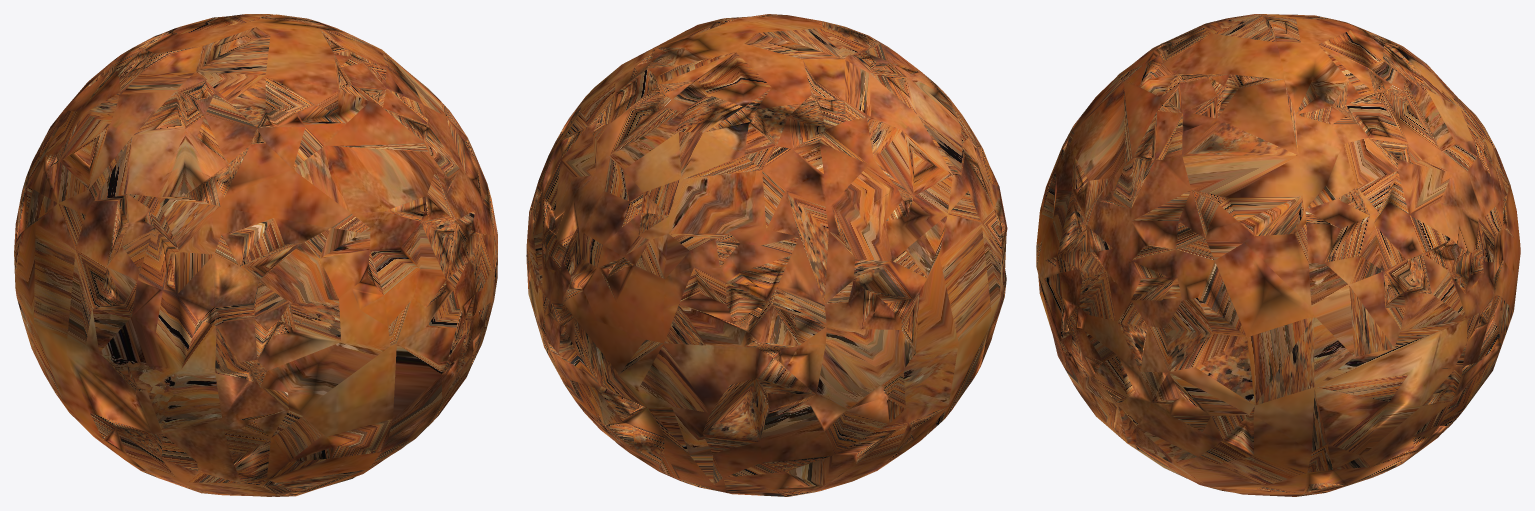
File: venus.glb
3 renders of one model, left to right at view 1: azimuth 30°, elevation 25°; view 2: azimuth 150°, elevation 25°; view 3: azimuth 270°, elevation 25°, orthographic.
Bounding box in the file's own units: 1.89 × 1.9 × 1.9.
Materials: 1 (1 with a texture image).
